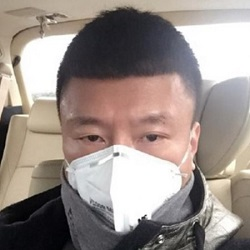mask: (62, 141, 184, 237)
